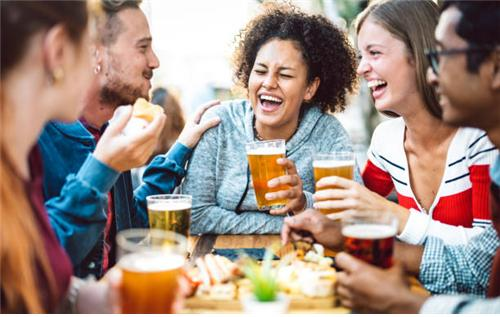alcohol: (340, 210, 400, 317), (116, 228, 186, 317), (246, 140, 293, 212), (147, 194, 192, 260), (312, 152, 357, 217)
